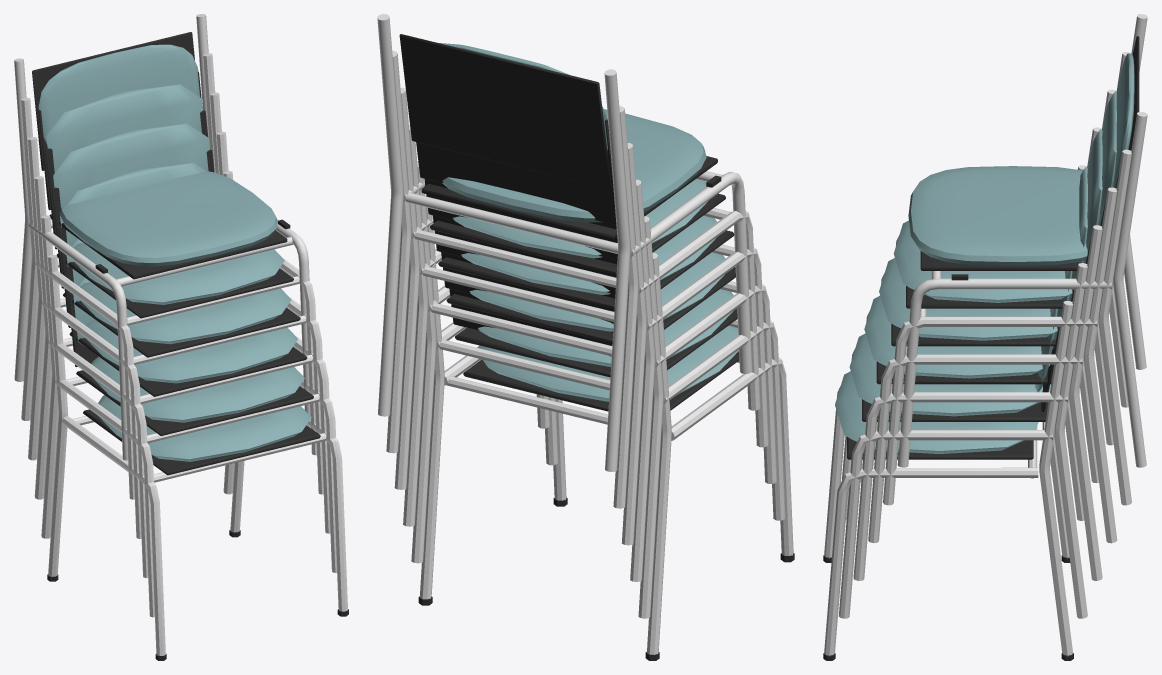
Rendered from Kit_StackChair_Stack6_Teal.fbx.
3 renders of one model, left to right at view 1: azimuth 30°, elevation 25°; view 2: azimuth 150°, elevation 25°; view 3: azimuth 270°, elevation 25°, orthographic. The views are drawn at different scales.
Visible parts, largest first — view 1: Kit_StackChair_Stack6_LOD0; view 2: Kit_StackChair_Stack6_LOD0; view 3: Kit_StackChair_Stack6_LOD0.
Part boxes in pixels (<box>): Kit_StackChair_Stack6_LOD0: <box>14,14,348,660</box>; Kit_StackChair_Stack6_LOD0: <box>377,14,794,660</box>; Kit_StackChair_Stack6_LOD0: <box>823,14,1147,660</box>.
Size of what is drawn, in the model's own units: 0.4942 by 1.23 by 0.6612.
